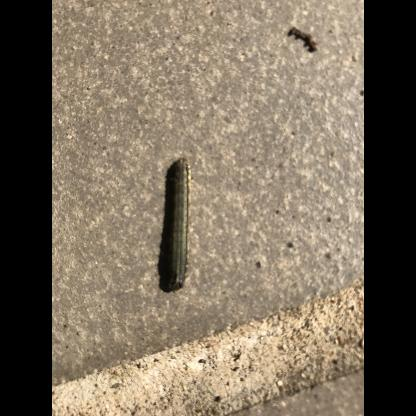Fall Armyworm Larvae: (164, 155, 194, 294)
